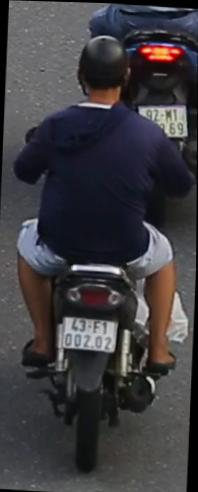LP: (60, 310, 121, 354)
helmet: (71, 30, 132, 112)
